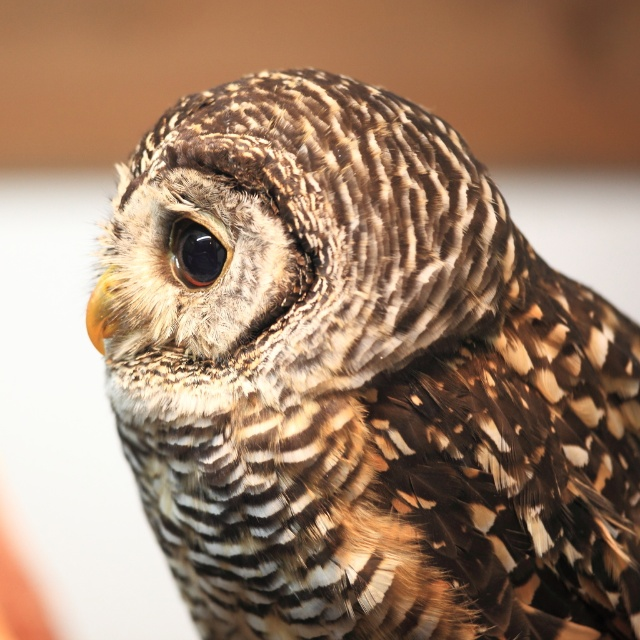Owl: (85, 69, 640, 640)
